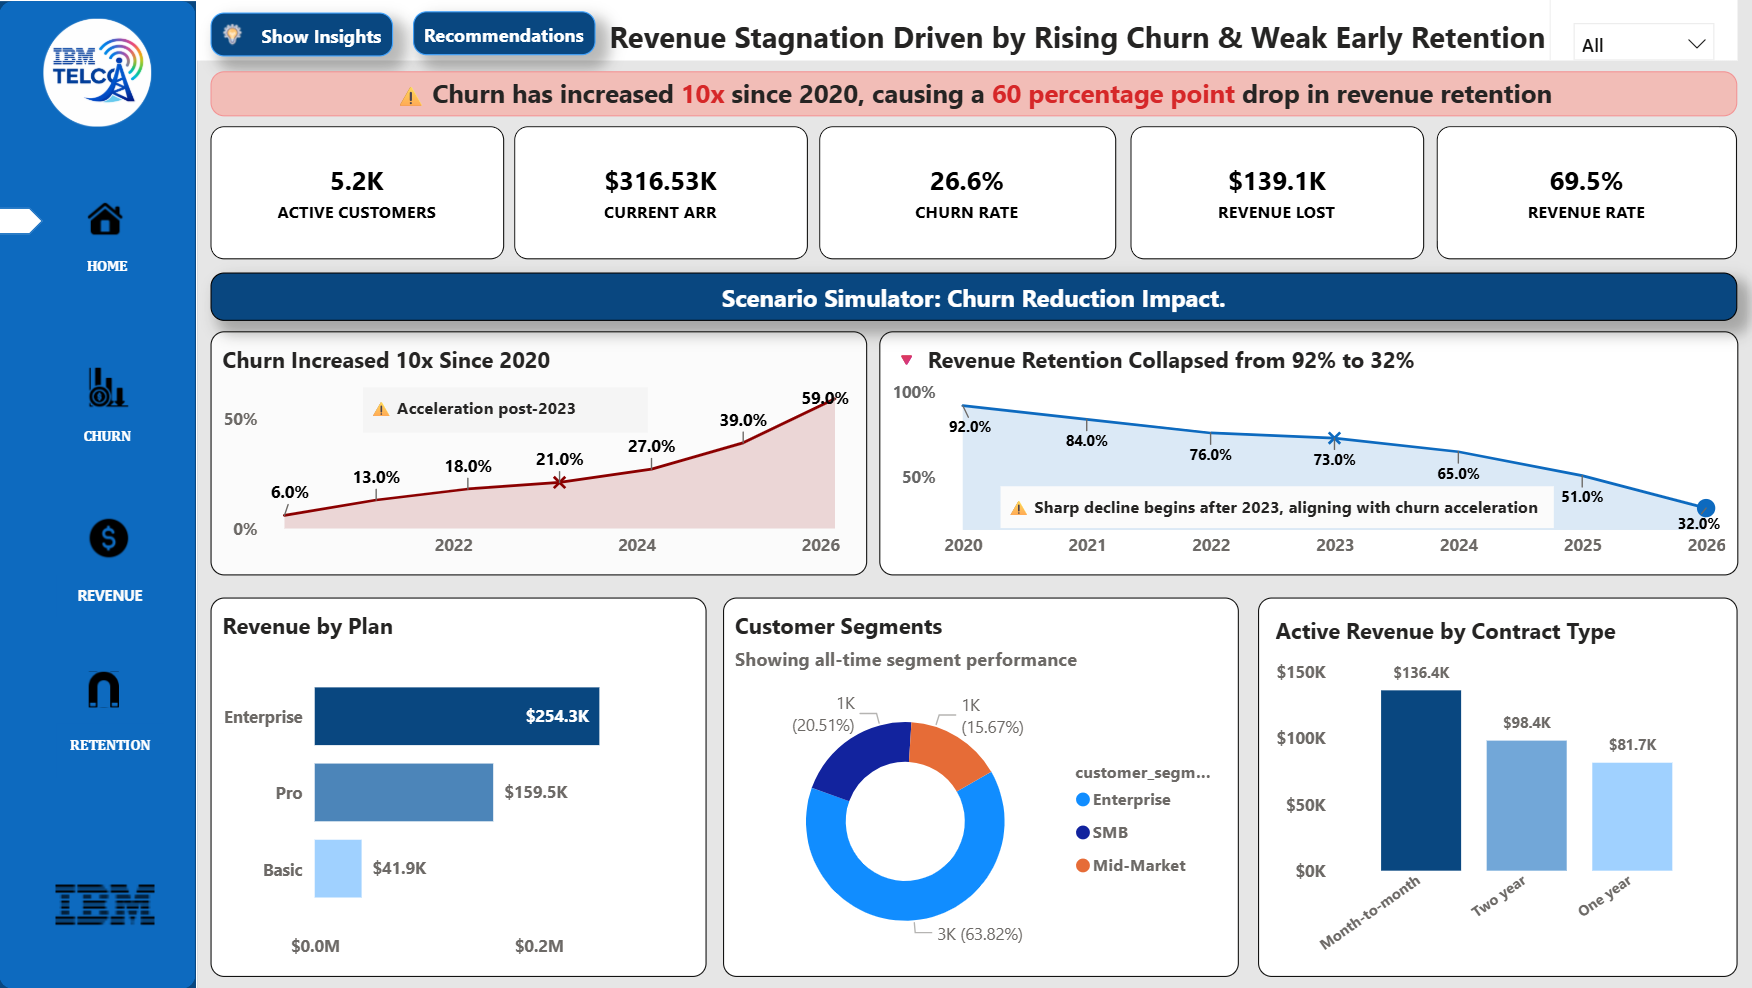

What the dashboard file says about the page in this screenshot:
{"tool":"powerbi","page":{"name":"Executive Overview","canvas":[1280,720],"ordinal":0},"visuals":[{"type":"clusteredBarChart","title":"Revenue by Plan","fields":{"Category":["revenue_by_plan.plan_name"],"Y":["Sum(revenue_by_plan.revenue_per_plan)"]},"box":[154.6,434.4,360.7,276.1],"z":0},{"type":"clusteredColumnChart","title":"Active Revenue by Contract Type","fields":{"Category":["revenue contract.CONTRACT"],"Y":["Sum(revenue contract.ACTIVE_REVENUE)"]},"box":[916.6,434.4,348.5,276.1],"z":1000},{"type":"lineChart","title":"Churn Increased 10x Since 2020","fields":{"Y":["Sum(monthly churn.churn_rate)"],"Category":["monthly churn.date"]},"box":[154.6,240.5,477.3,177.9],"z":2000},{"type":"lineChart","title":"🔻 Revenue Retention Collapsed from 92% to 32%","fields":{"Y":["Sum(revenue retention.revenue_rate)"],"Category":["revenue retention.date"]},"box":[640.5,240.5,624.5,177.9],"z":3000},{"type":"shape","box":[0,0,144.8,720.2],"z":4000},{"type":"actionButton","box":[51.5,246.6,57.7,69.9],"z":5000},{"type":"actionButton","box":[51.5,360.7,57.7,61.4],"z":6000},{"type":"textbox","box":[51.5,177.9,55.2,33.1],"z":7000},{"type":"textbox","box":[51.5,301.8,55.2,33.1],"z":8000},{"type":"textbox","box":[42.9,418.4,77.3,30.7],"z":9000},{"type":"actionButton","box":[51.5,476.1,55.2,50.3],"z":10000},{"type":"textbox","box":[42.9,526.4,77.3,39.3],"z":11000},{"type":"image","box":[22.1,618.4,111.7,82.2],"z":12000},{"type":"slicer","fields":{"Values":["ARR.YEAR"]},"box":[1128.8,0,136.2,44.2],"z":13000},{"type":"image","box":[22.1,13.5,100.6,78.5],"z":14000},{"type":"cardVisual","fields":{"Data":["CUSTOMERS.KPI Card Display"]},"box":[154.6,92,213.5,96.9],"z":15000},{"type":"textbox","box":[144.8,0,984.1,44.2],"z":16000},{"type":"cardVisual","fields":{"Data":["ARR.KPI CARD ARR"]},"box":[375.5,92,213.5,96.9],"z":17000},{"type":"cardVisual","fields":{"Data":["churn per year - churn per year.KPI CR"]},"box":[597.5,92,216,96.9],"z":18000},{"type":"cardVisual","fields":{"Data":["annual churn mrr.kpi churn mrr"]},"box":[823.3,92,213.5,96.9],"z":19000},{"type":"cardVisual","fields":{"Data":["revenue rate.kpi rr"]},"box":[1046.6,92,218.4,96.9],"z":20000},{"type":"textbox","box":[728.8,354,402.5,30.7],"z":21000},{"type":"textbox","box":[265,282.2,207.4,33.1],"z":22000},{"type":"actionButton","box":[154.6,198,1110.4,35.6],"z":23000},{"type":"actionButton","title":"recom button","box":[301.8,8.6,132.5,31.9],"z":24000},{"type":"actionButton","title":"insight button","box":[154.6,9,132.5,31.9],"z":25000},{"type":"textbox","box":[154.6,52,1110.4,33.1],"z":27000},{"type":"actionButton","box":[49.1,127.6,57.7,66.3],"z":33000},{"type":"shape","box":[0,150.9,33,19.6],"z":34000},{"type":"donutChart","title":"Customer Segments","fields":{"Y":["Sum(CUSTOMER SEGMENTS.active_customers)"],"Category":["CUSTOMER SEGMENTS.customer_segment"]},"box":[527.6,434.4,375.5,276.1],"z":35000}]}

Visuals, with their boxes in screenshot pixels (x1, y1, x2, y2), scaled from the page's 1280x720 canvas onto the 1752x988 screenshot:
"Revenue by Plan" clusteredBarChart: 212, 596, 705, 975
"Active Revenue by Contract Type" clusteredColumnChart: 1255, 596, 1732, 975
"Churn Increased 10x Since 2020" lineChart: 212, 330, 865, 574
"🔻 Revenue Retention Collapsed from 92% to 32%" lineChart: 877, 330, 1731, 574
shape: 0, 0, 198, 987
actionButton: 70, 338, 149, 434
actionButton: 70, 495, 149, 579
textbox: 70, 244, 146, 290
textbox: 70, 414, 146, 460
textbox: 59, 574, 165, 616
actionButton: 70, 653, 146, 722
textbox: 59, 722, 165, 776
image: 30, 849, 183, 961
slicer - ARR.YEAR: 1545, 0, 1731, 61
image: 30, 19, 168, 126
cardVisual - CUSTOMERS.KPI Card Display: 212, 126, 504, 259
textbox: 198, 0, 1545, 61
cardVisual - ARR.KPI CARD ARR: 514, 126, 806, 259
cardVisual - churn per year - churn per year.KPI CR: 818, 126, 1113, 259
cardVisual - annual churn mrr.kpi churn mrr: 1127, 126, 1419, 259
cardVisual - revenue rate.kpi rr: 1433, 126, 1731, 259
textbox: 998, 486, 1548, 528
textbox: 363, 387, 647, 433
actionButton: 212, 272, 1731, 321
"recom button" actionButton: 413, 12, 594, 56
"insight button" actionButton: 212, 12, 393, 56
textbox: 212, 71, 1731, 117
actionButton: 67, 175, 146, 266
shape: 0, 207, 45, 234
"Customer Segments" donutChart: 722, 596, 1236, 975
